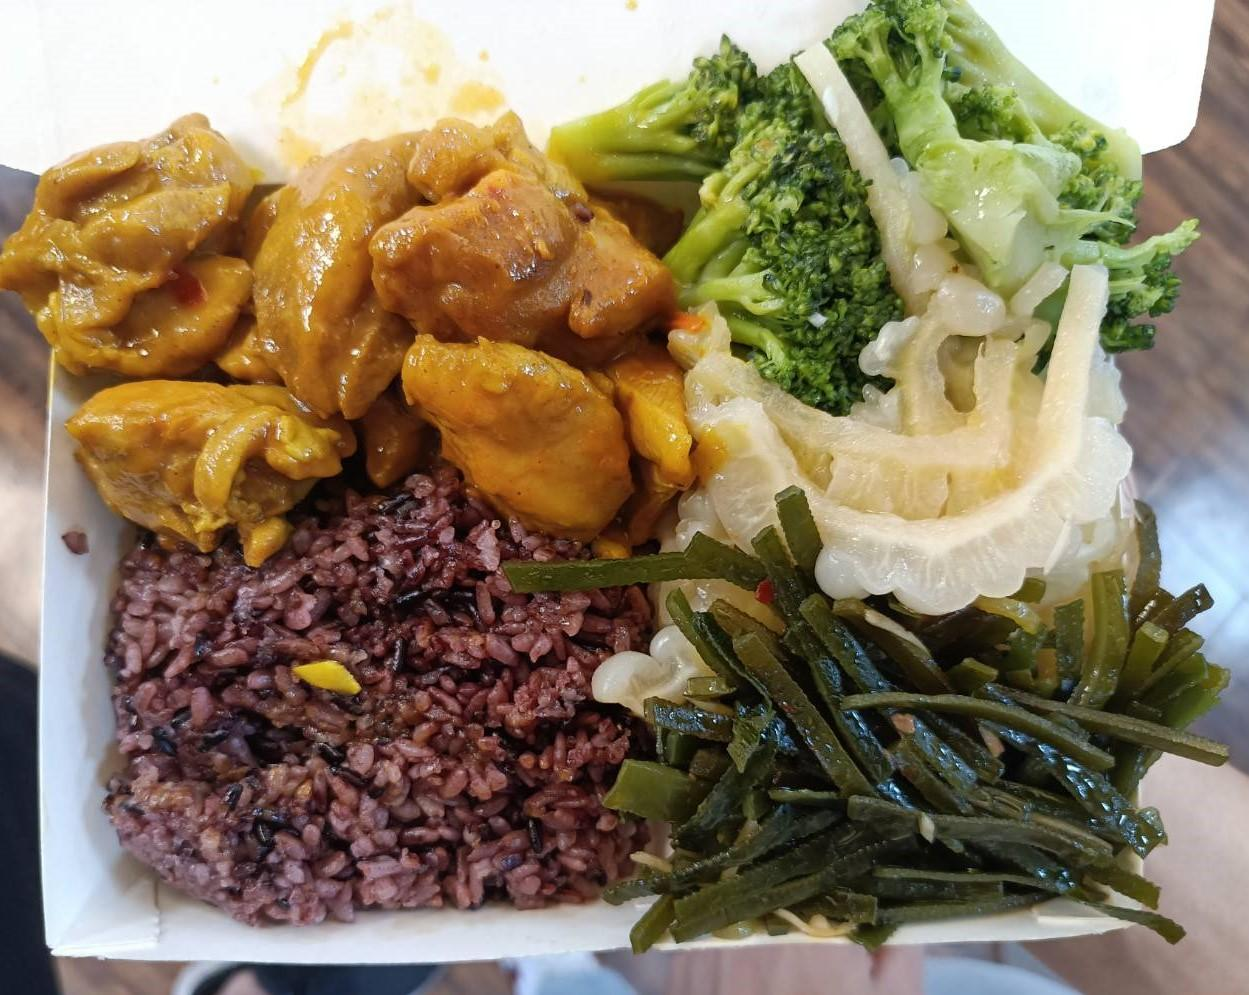big grilled chicken leg: (0, 76, 1231, 985)
braised fish: (103, 486, 649, 927)
braised fish fillet: (612, 581, 1214, 925), (645, 39, 1134, 385), (673, 325, 1134, 615)
braised pork: (8, 113, 693, 546)
